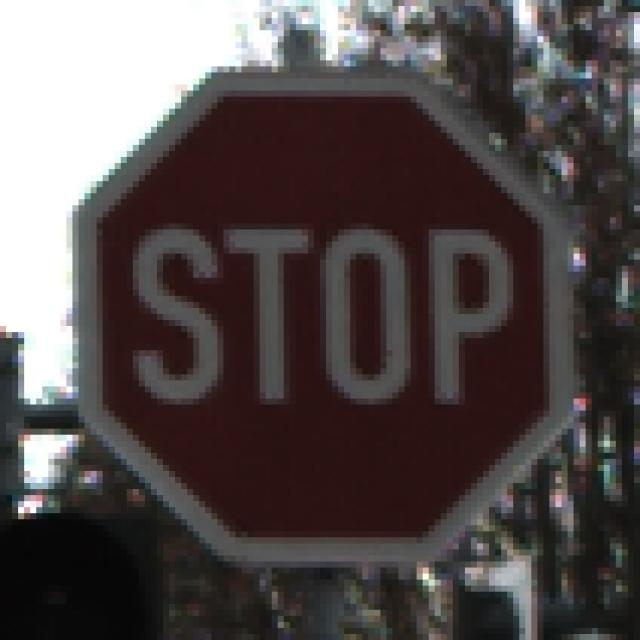STOP: (55, 62, 581, 581)
